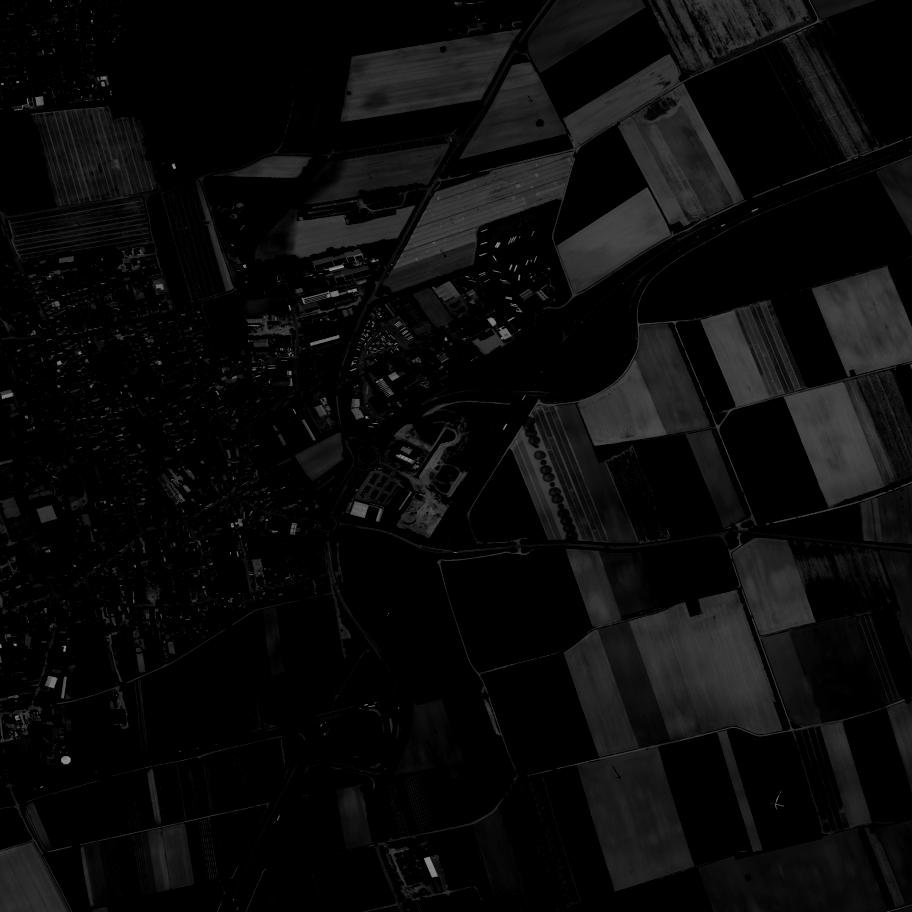storage-tank: (482, 4, 503, 22), (458, 7, 477, 26)
